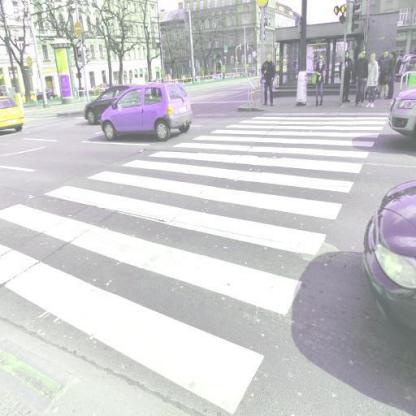crosswalk: (38, 167, 346, 258), (228, 116, 388, 134)
